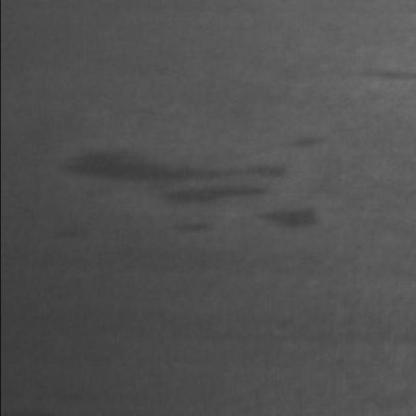inclusion: (58, 140, 329, 242), (252, 198, 335, 235), (366, 63, 416, 86)
